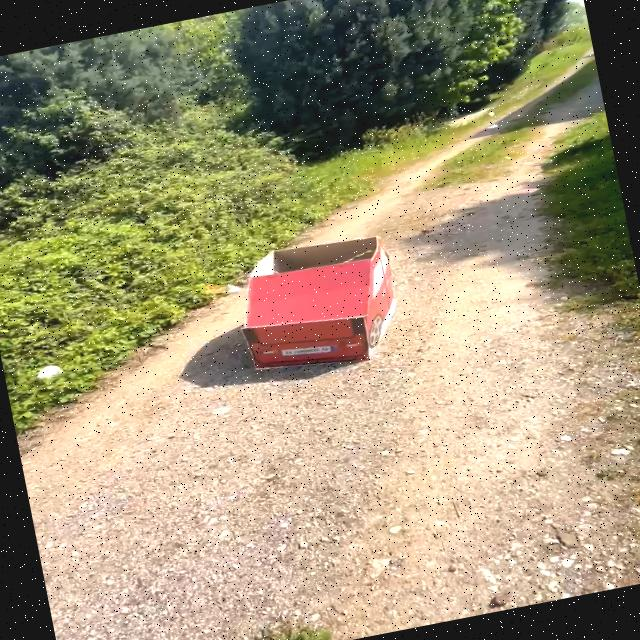red_car: (179, 222, 423, 418)
